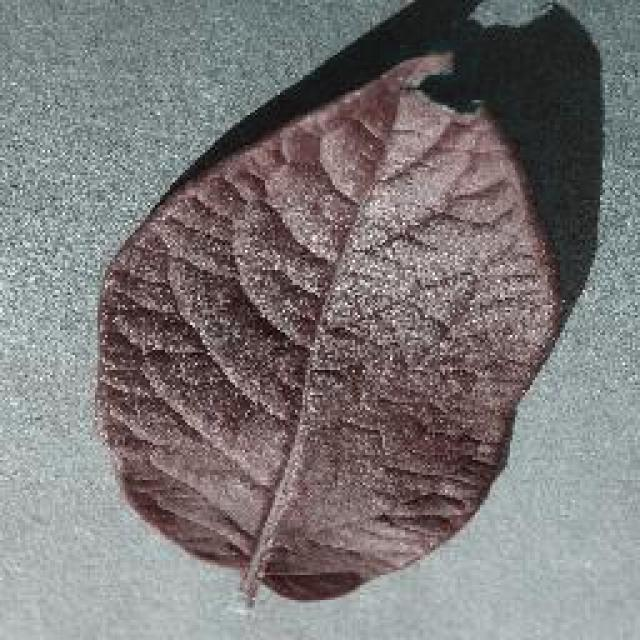Potato___healthy: (90, 43, 572, 619)
